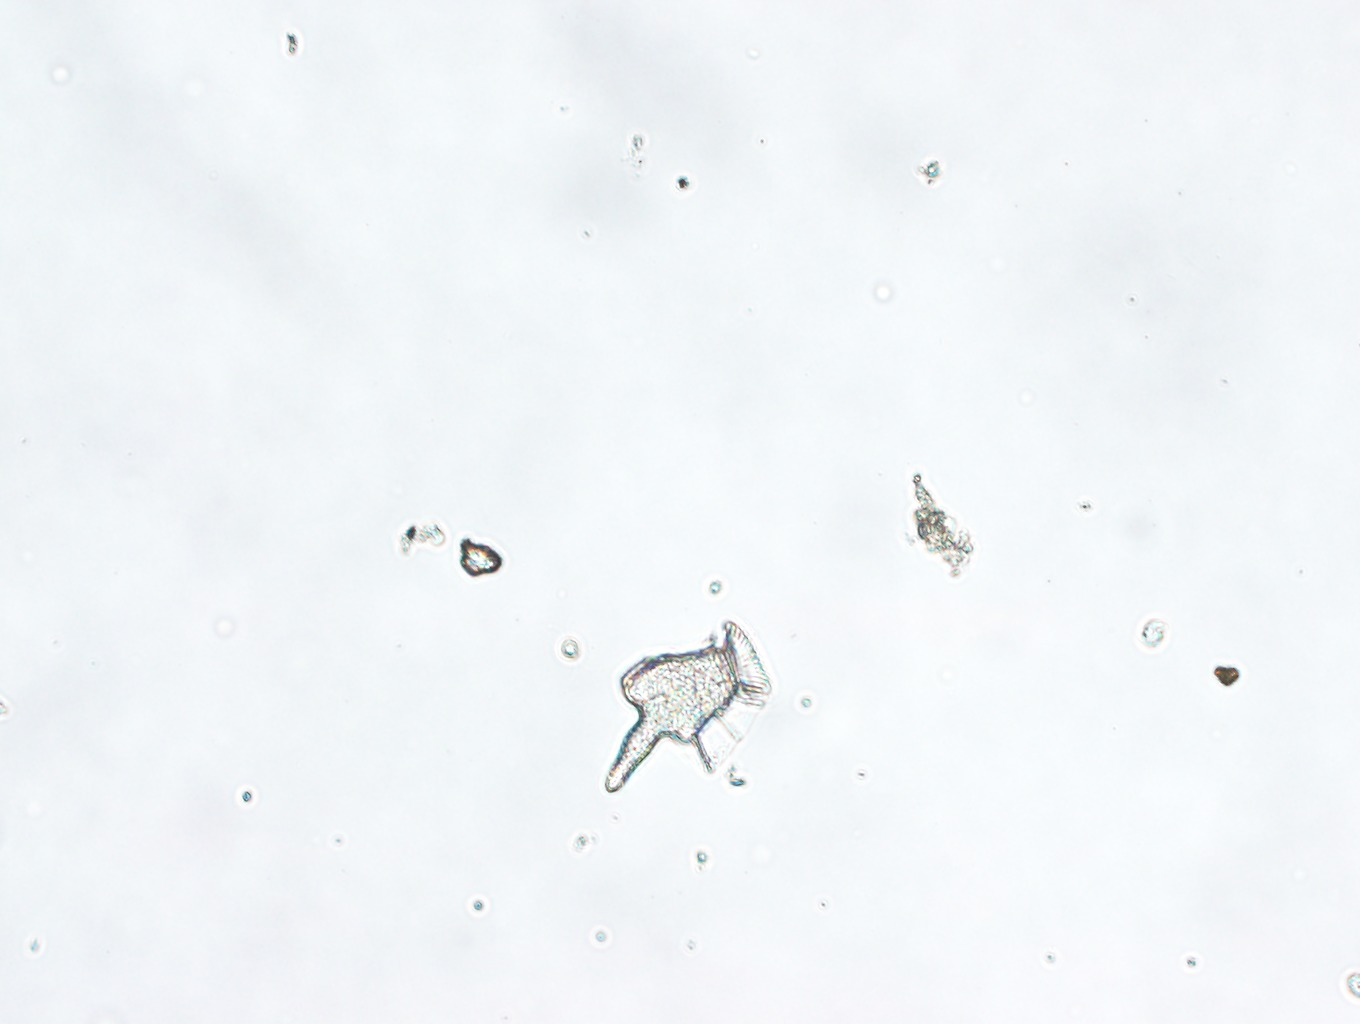dinophysis caudata: (604, 623, 772, 794)
